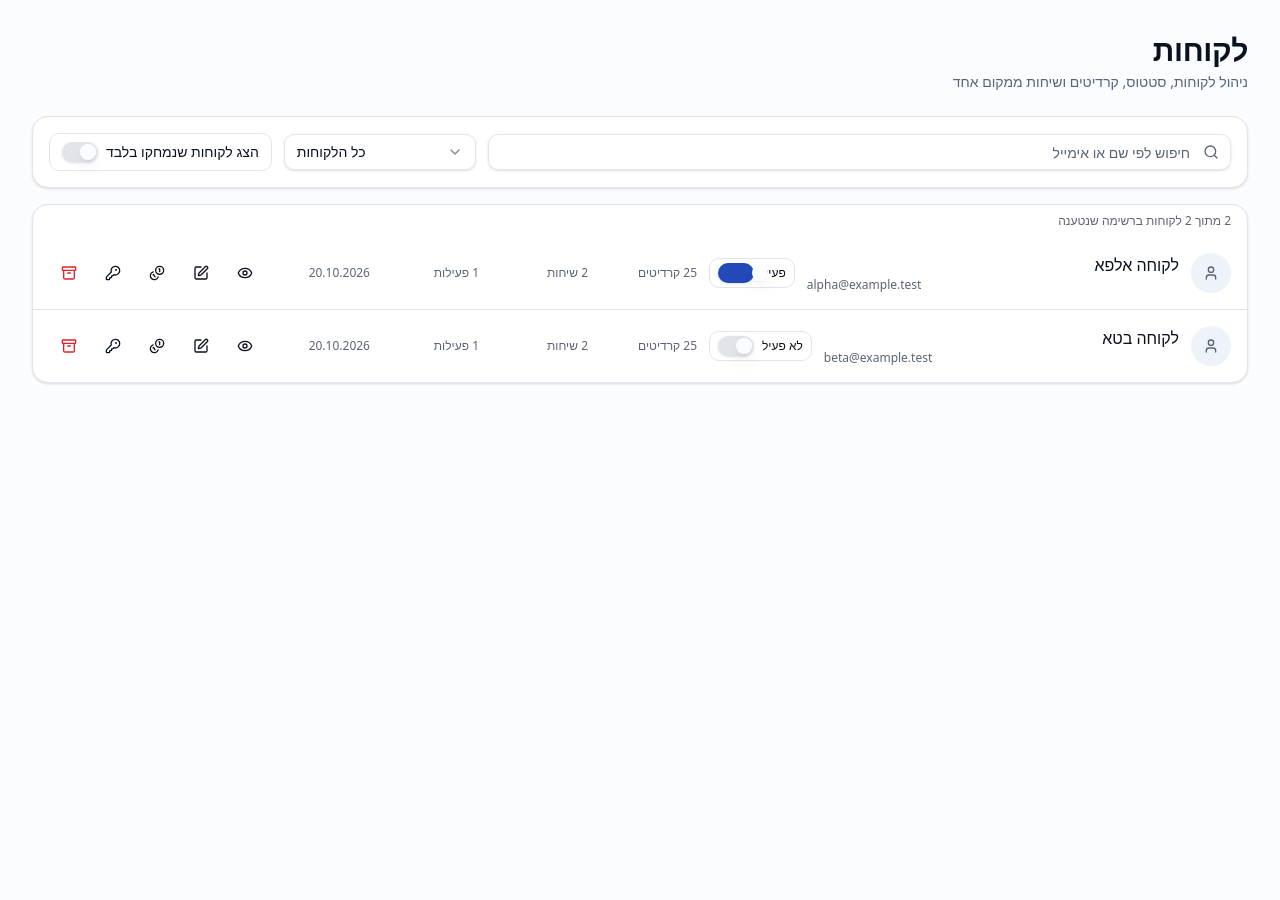
it: admin client workspace › promote confirmation stays mounted until success and then refreshes once
This screenshot has width=1280, height=900.
Later steps or results of the test are not shown.
expect the text "לקוחה אלפא" is shown: met, box [1095,254,1179,276]
Click the button titled "פרטי לקוח" in the row of "alpha@example.test" at (245, 273), box [225,257,265,289]
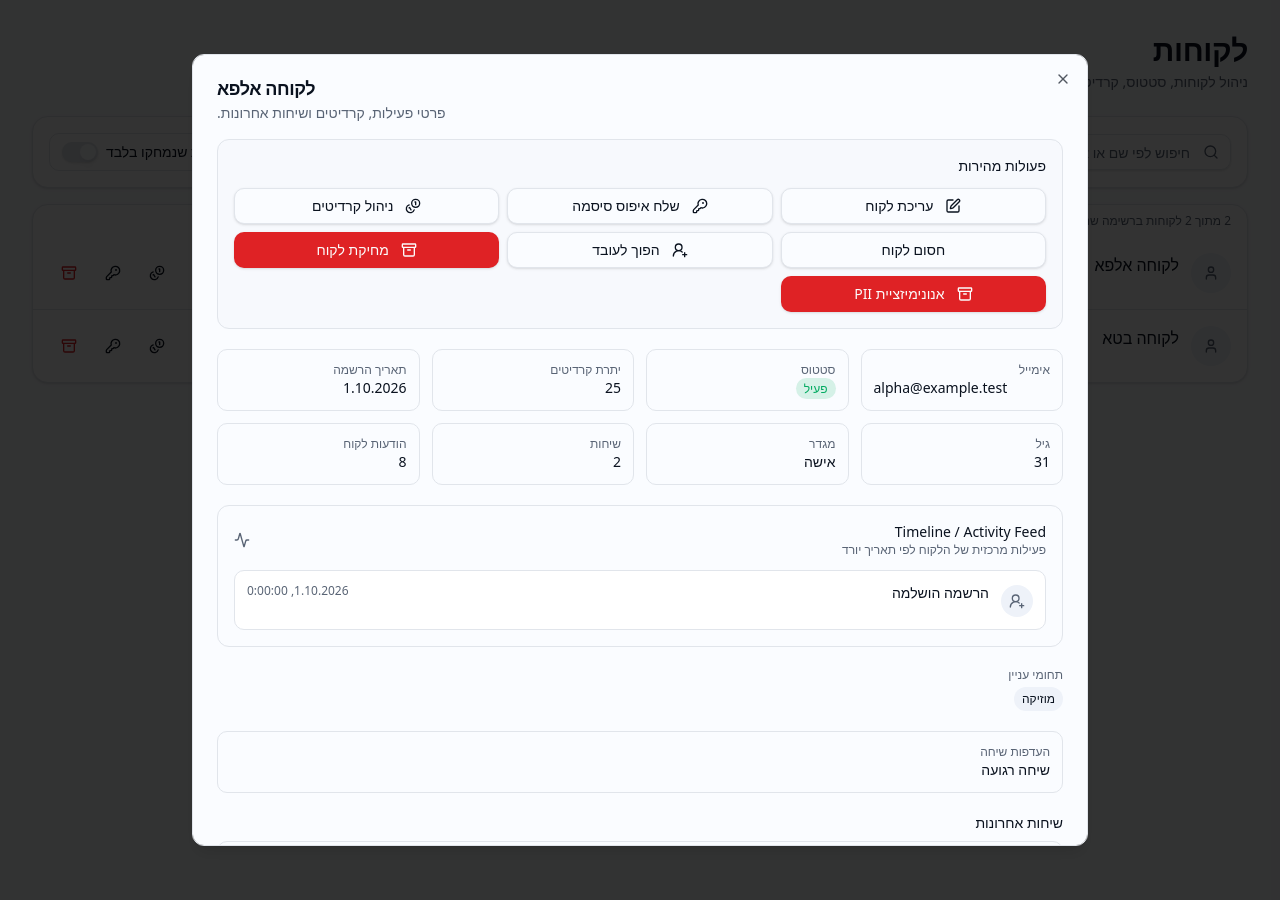
expect the text "הרשמה הושלמה" is shown: met, box [892,583,989,603]
Click the button "הפוך לעובד" at (640, 250), box [507,232,773,268]
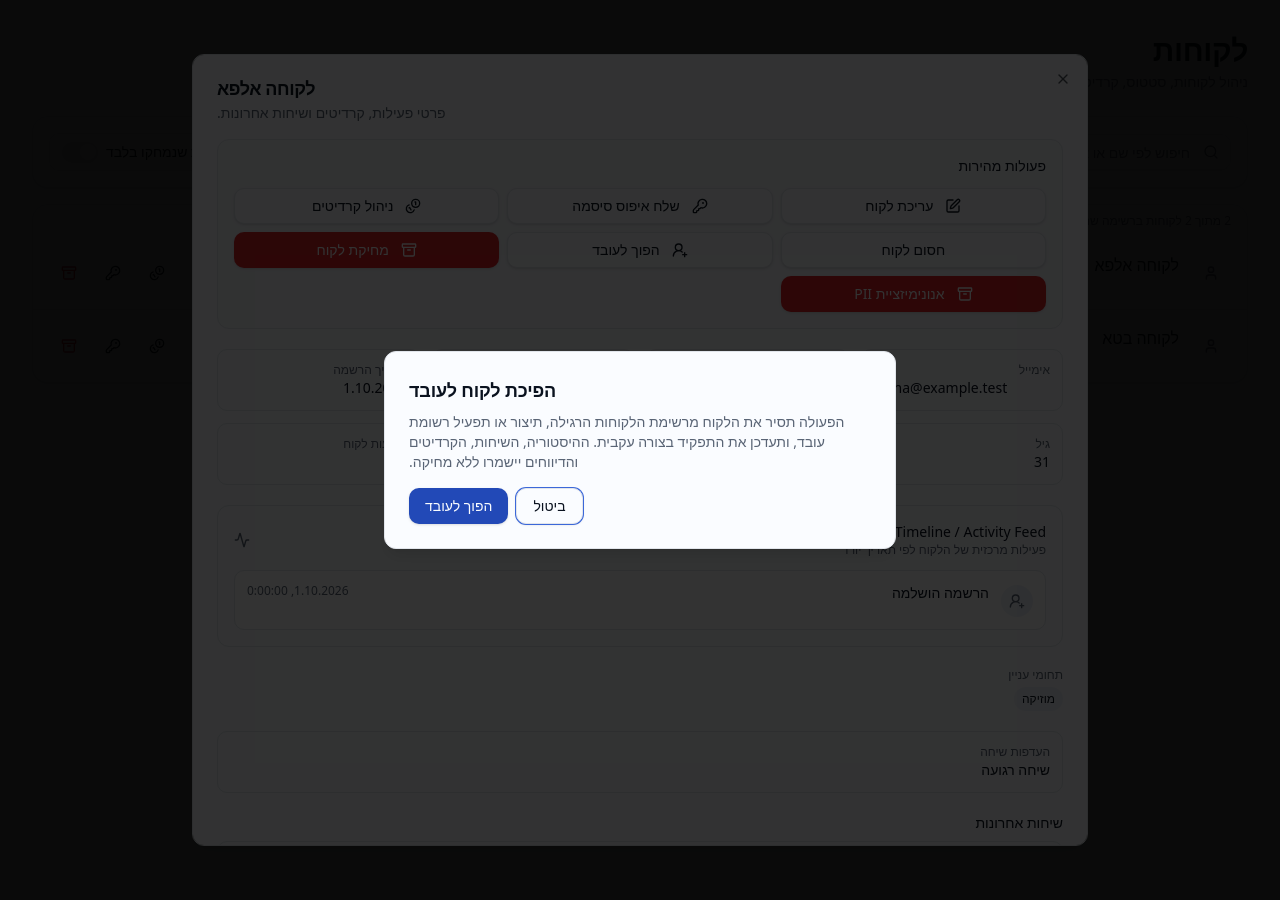
Click the button "הפוך לעובד" at (459, 506), box [409,488,508,524]
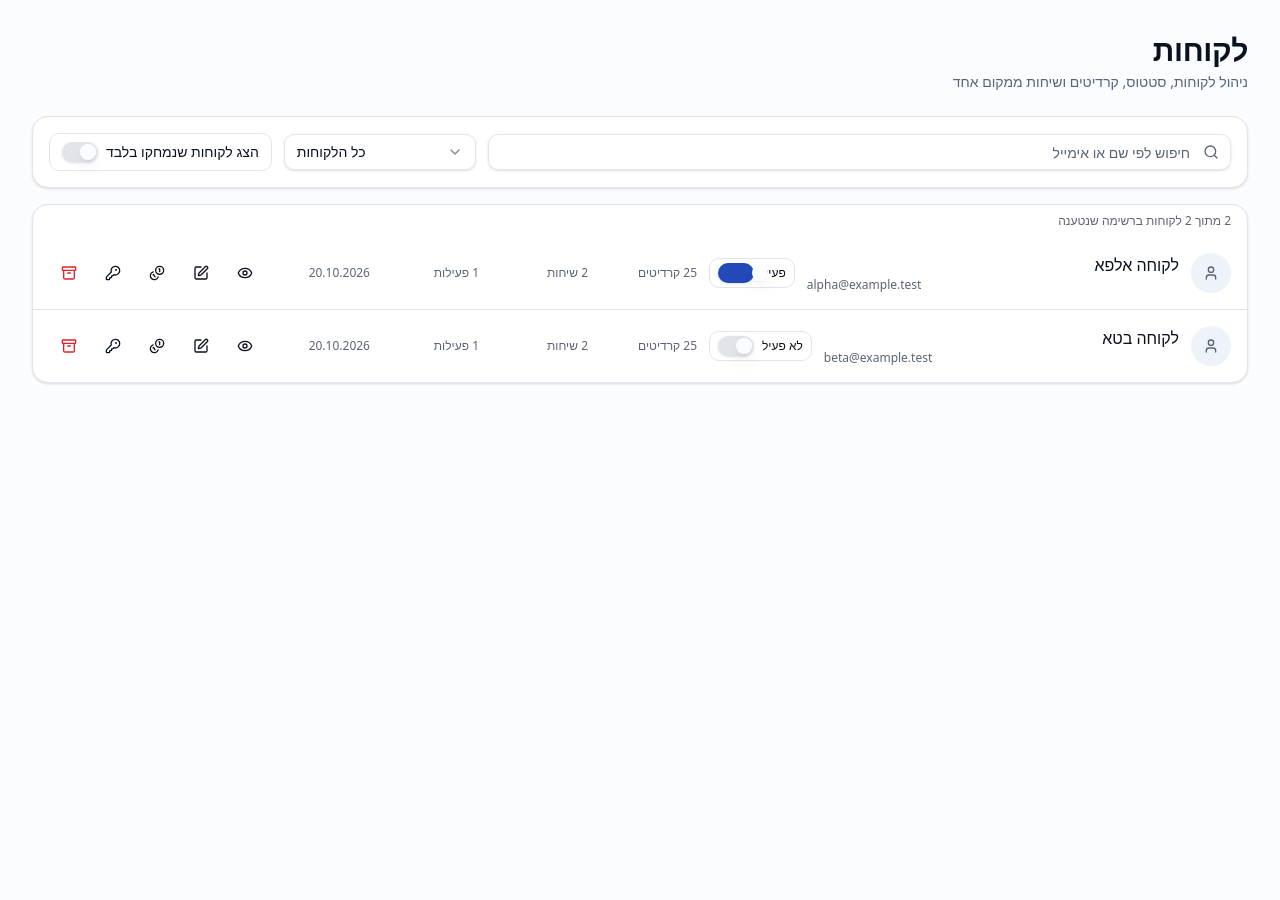
expect the dialog is gone: met
